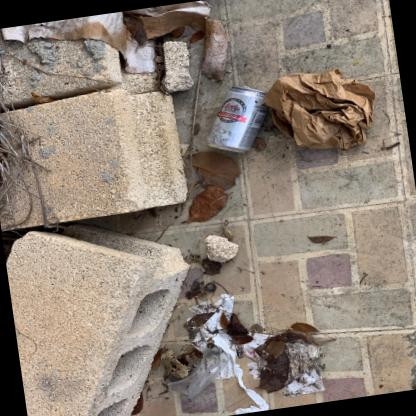Metal: (205, 84, 268, 152), (241, 83, 253, 88)
Paper: (186, 292, 269, 414), (262, 67, 377, 148), (244, 329, 325, 396)
Plastic: (166, 346, 230, 397)
